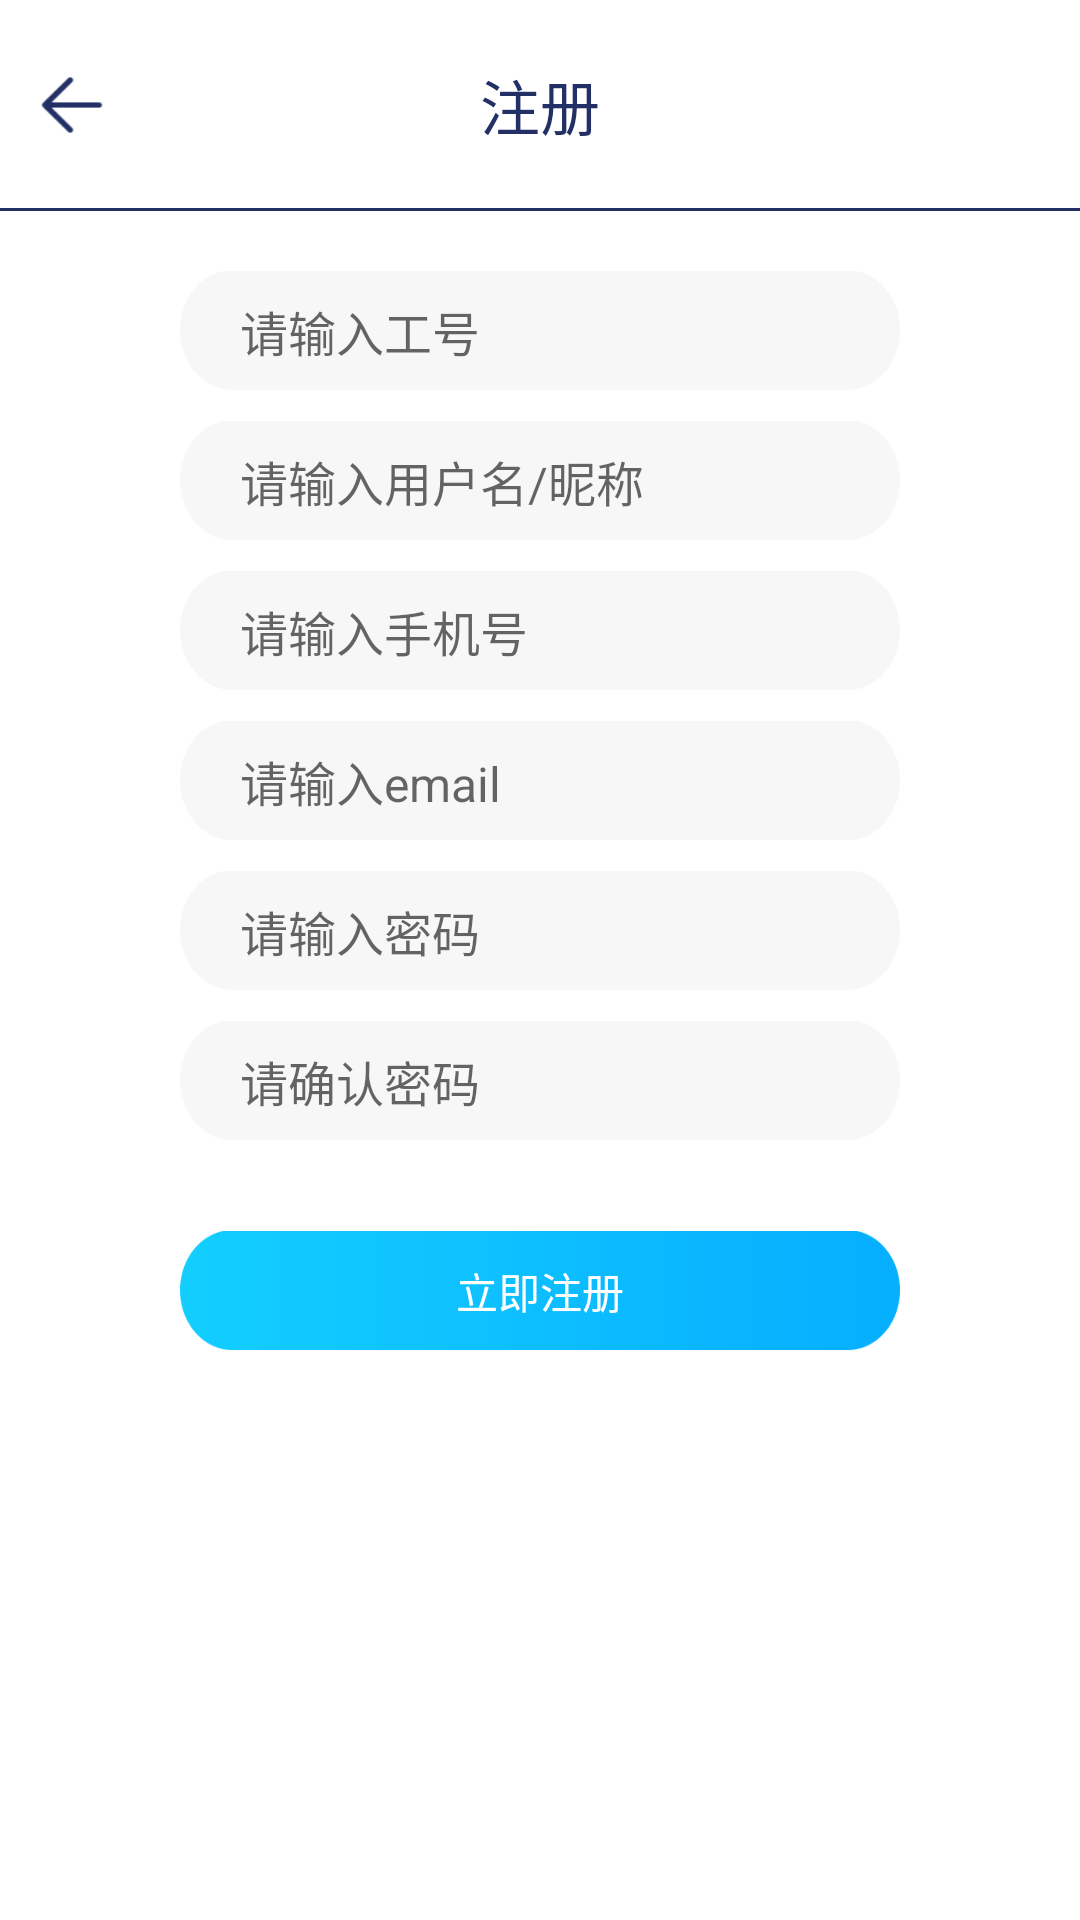

Icon bounding boxes for this 1080 × 1920 phone screenshot, format (x1,y1,x2,y2):
back: (41,77,103,133)
